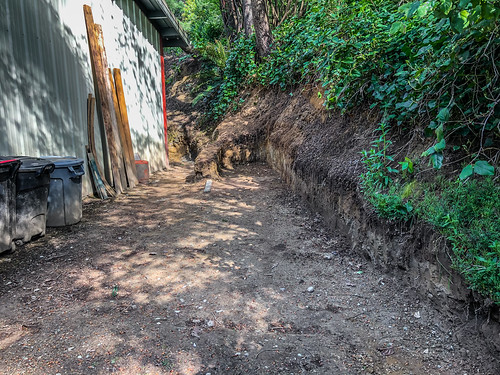building: (1, 1, 193, 229)
trash can: (1, 156, 53, 245), (47, 155, 89, 230)
vegetation: (239, 1, 500, 123)
